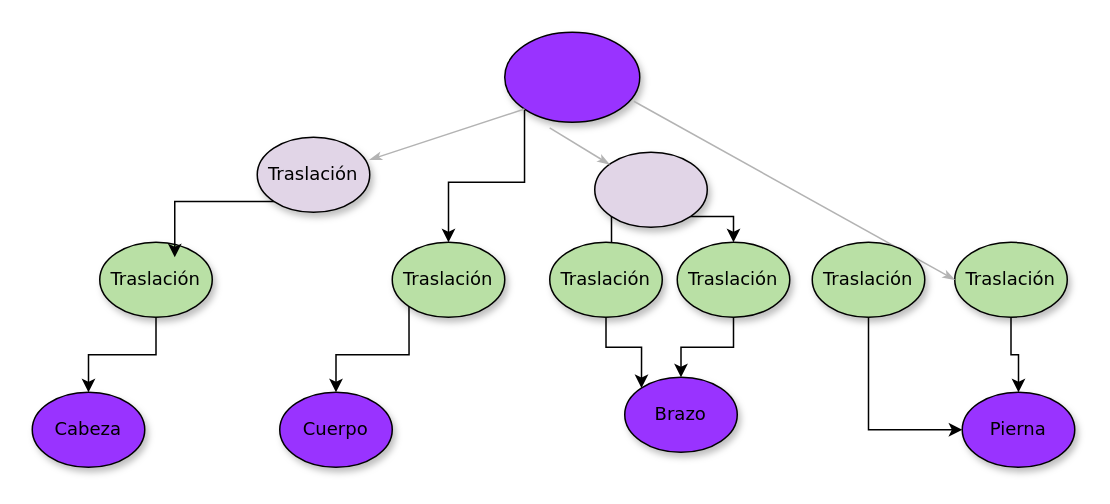
This 1110x504 diagram has some shape labels left out. Here are the shapes that lost their labels. From the top down, the centre of each, then its label:
point (573, 79): Humanoide
point (651, 191): Rotación
